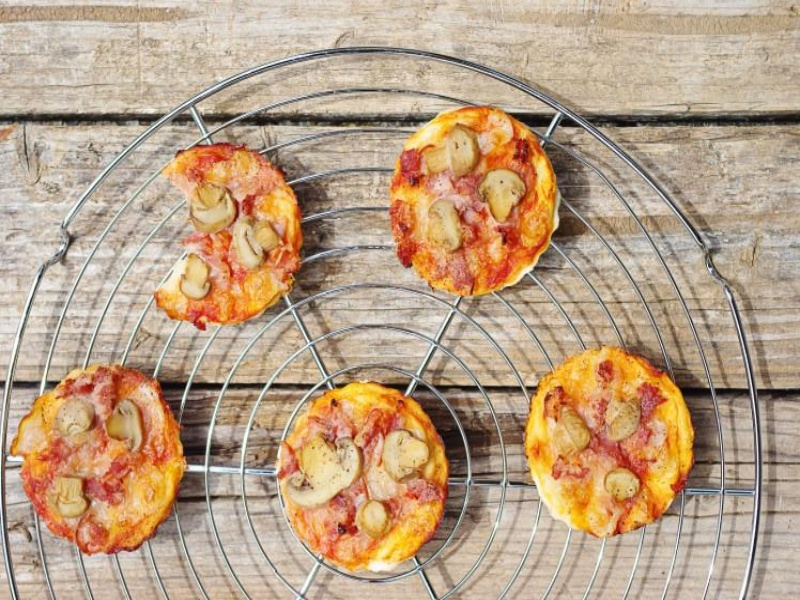champignon: (286, 435, 367, 513), (101, 393, 159, 463), (421, 196, 478, 261), (423, 123, 486, 180), (377, 425, 434, 484), (229, 215, 283, 275), (474, 166, 528, 225), (592, 396, 650, 446), (50, 472, 93, 520), (174, 251, 213, 301)
